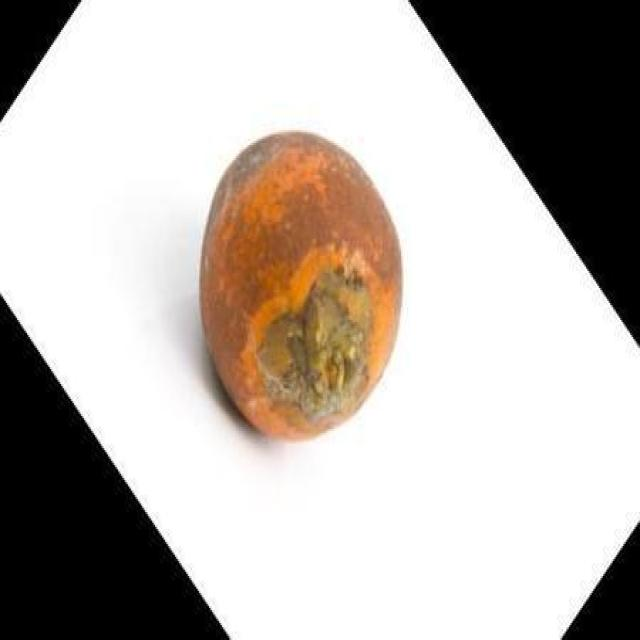good: (193, 128, 411, 444)
